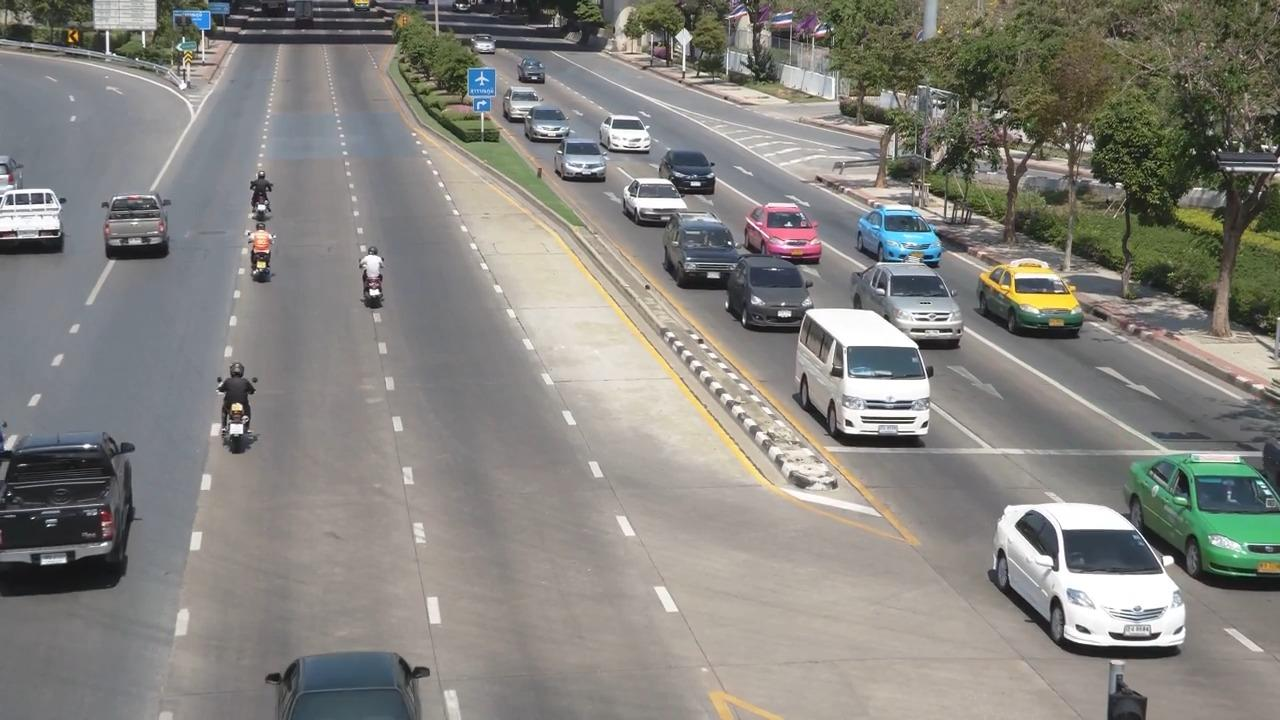CAR: (979, 491, 1202, 669), (1118, 434, 1280, 594), (0, 416, 132, 610), (800, 305, 947, 452), (259, 633, 451, 720), (966, 242, 1103, 343), (860, 257, 979, 356), (86, 183, 178, 271), (662, 211, 750, 293), (731, 254, 825, 327), (0, 174, 75, 264), (857, 192, 950, 261), (742, 198, 825, 265), (623, 165, 684, 223), (595, 106, 659, 161), (655, 144, 723, 194), (556, 133, 609, 181), (498, 79, 545, 127), (522, 105, 569, 141)
MOTOR: (206, 362, 288, 465), (349, 244, 396, 321), (237, 222, 285, 291), (240, 157, 285, 224)
